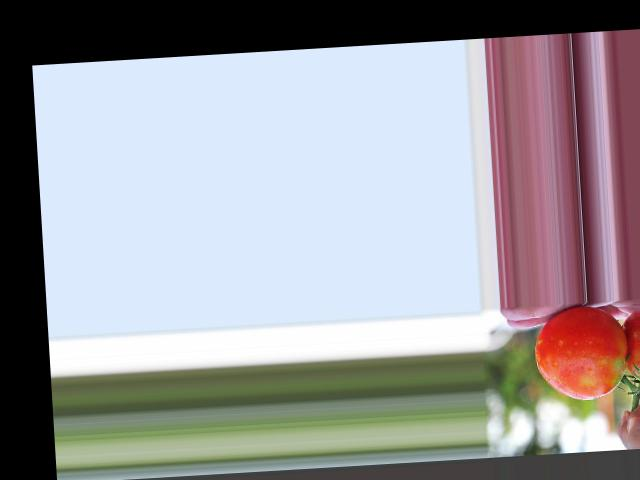tomato: (532, 304, 629, 402)
